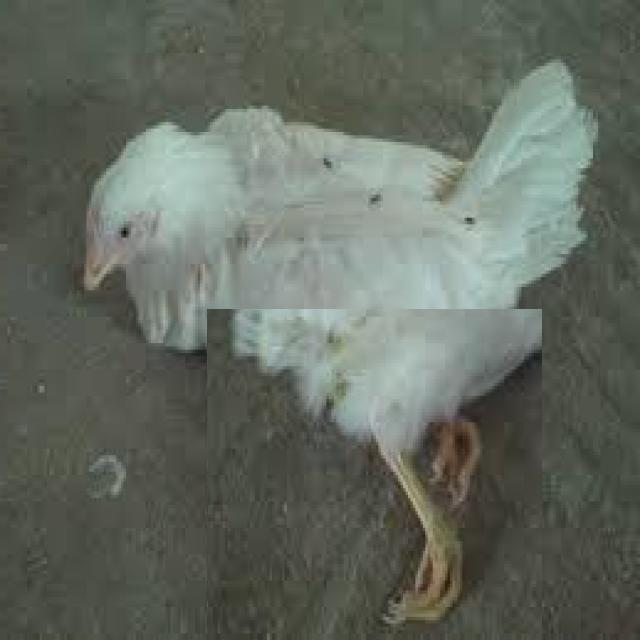AbNormal: (243, 325, 536, 629)
